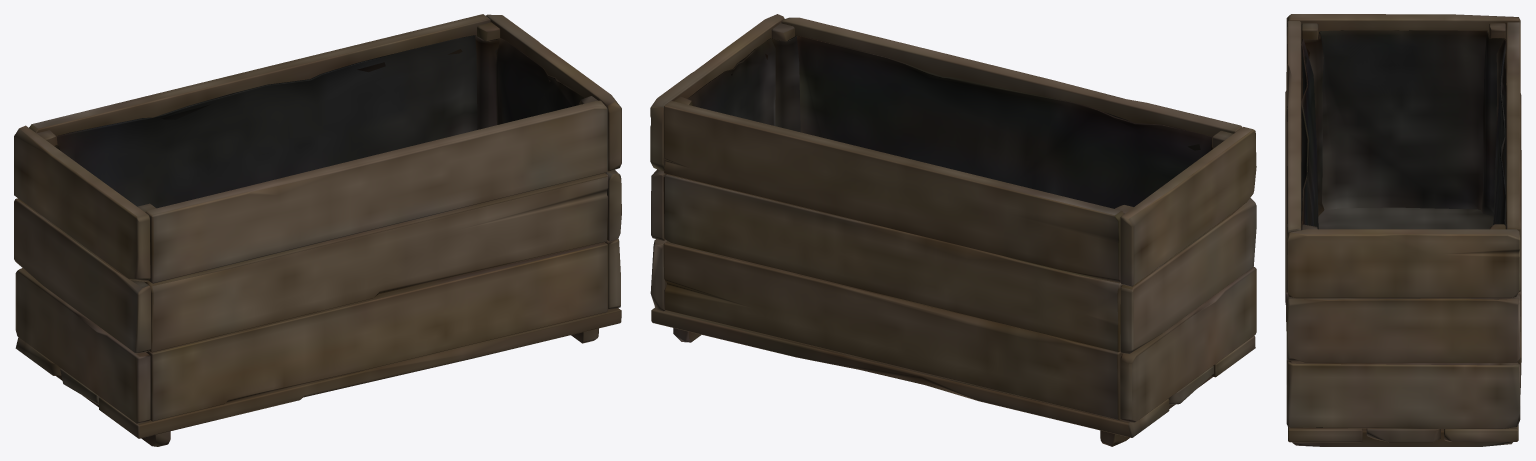
File: ph_planter_1.glb
The picture shows the model from 3 angles, left to right: view 1: azimuth 30°, elevation 25°; view 2: azimuth 150°, elevation 25°; view 3: azimuth 270°, elevation 25°; orthographic projection. The views are drawn at different scales.
Visible parts, largest first — view 1: ph_planter_1; view 2: ph_planter_1; view 3: ph_planter_1.
Boxes of the visible parts, left/top/right/bottom form: ph_planter_1: left=14, top=14, right=621, bottom=446; ph_planter_1: left=650, top=14, right=1256, bottom=446; ph_planter_1: left=1285, top=14, right=1521, bottom=446.
Bounding box in the file's own units: 0.9054 × 0.425 × 0.4097.
1 material, 1 textured.
